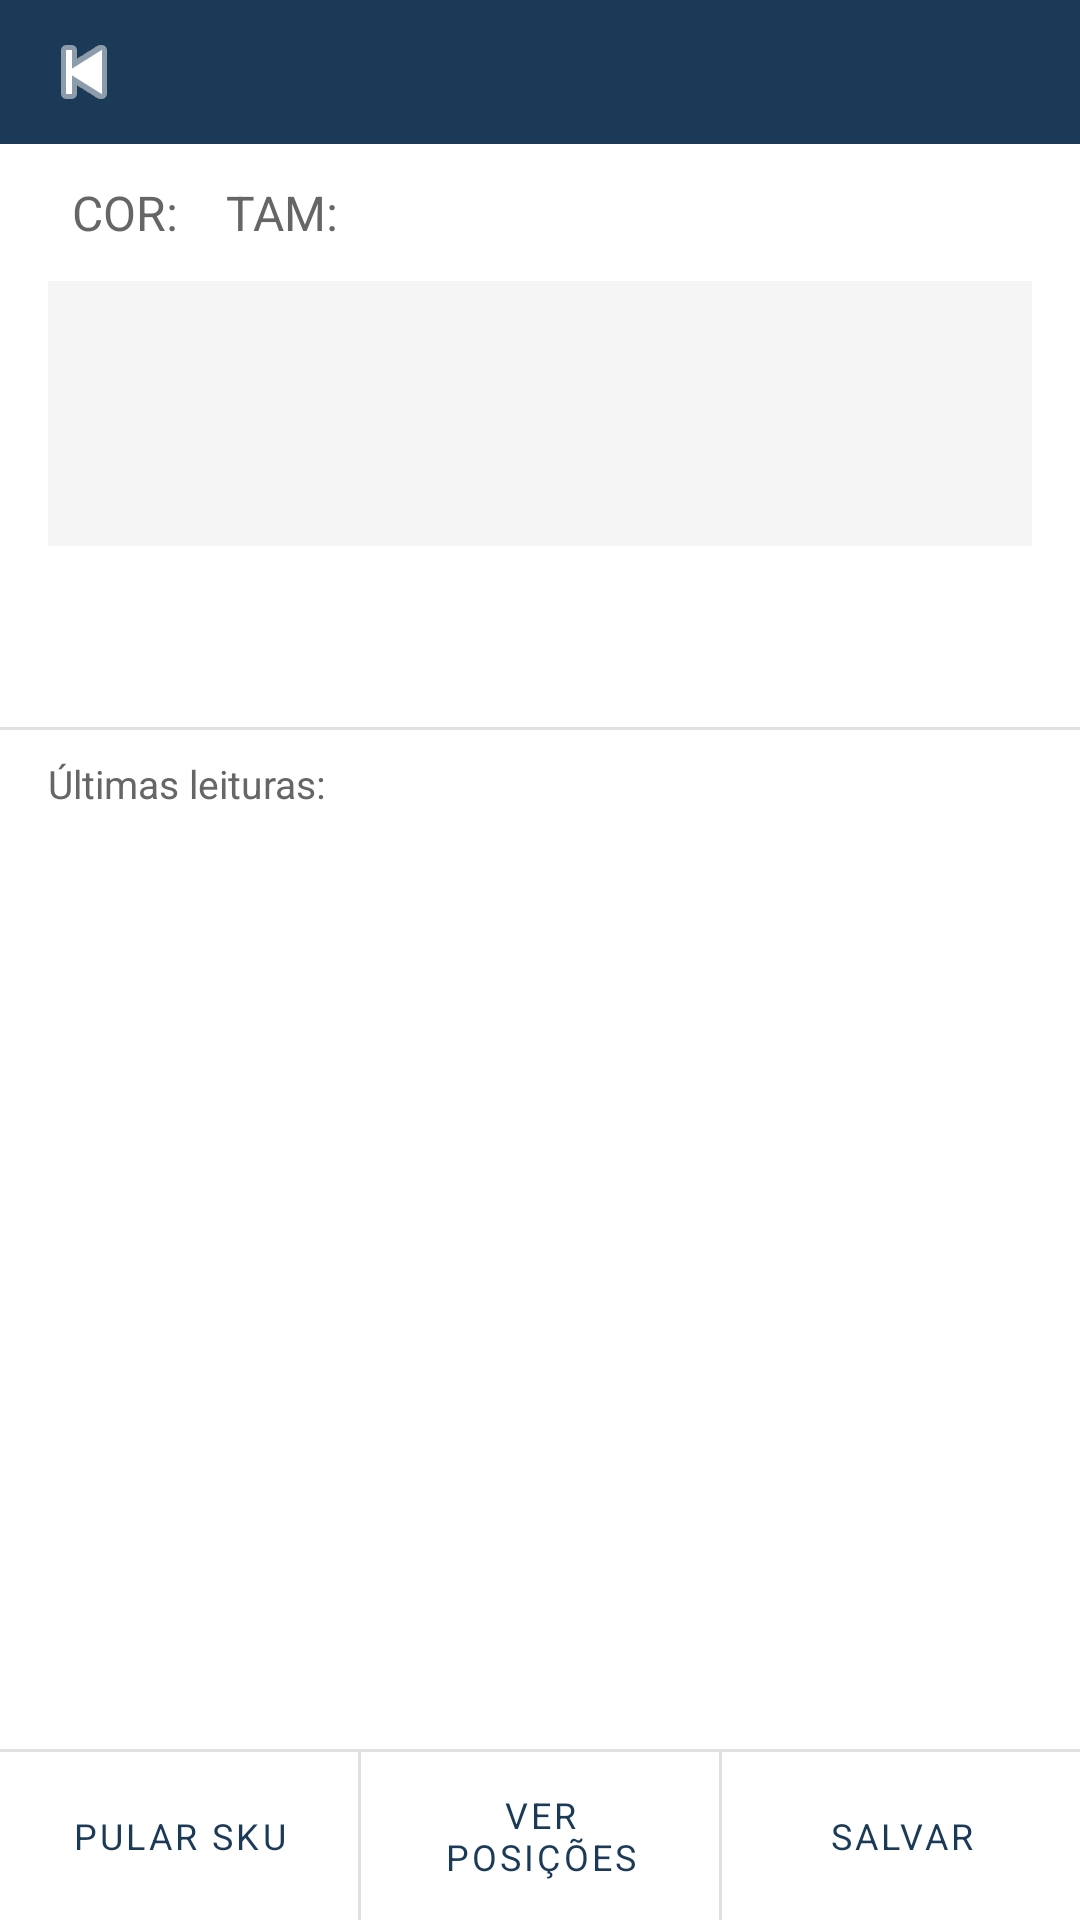

Screen size 1080x1920. Icon name, then its center in pixels as [x,y]:
Voltar: [84,72]
